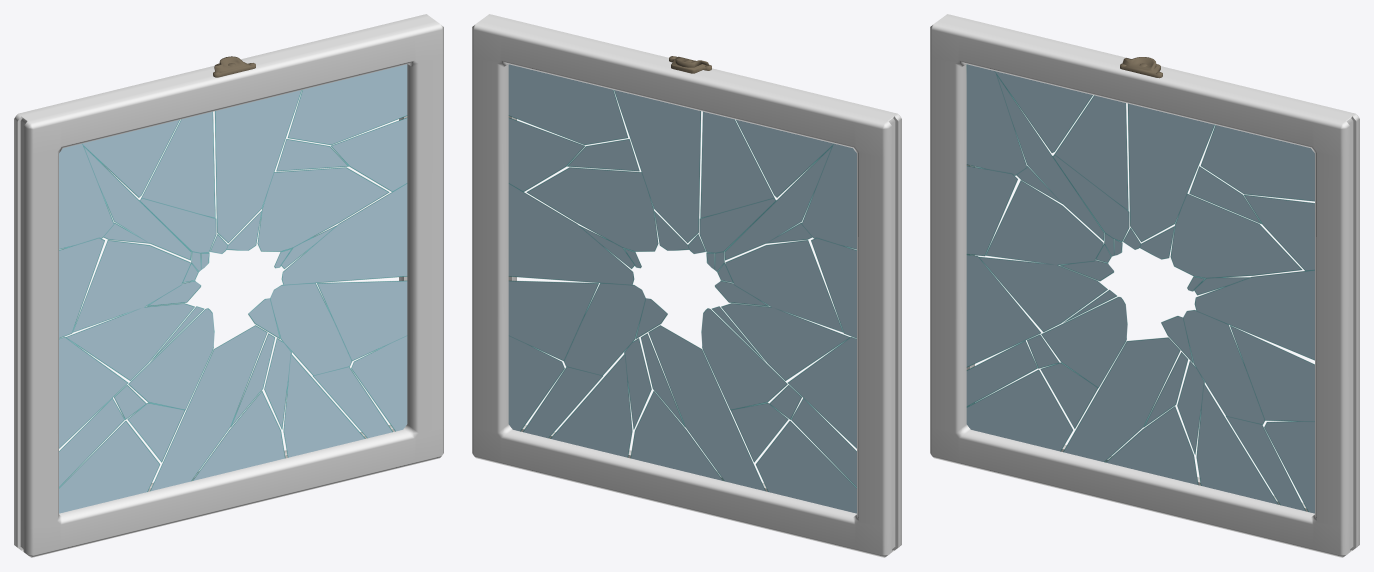
The model's file is GlassBrokenWindow.glb.
3 renders of one model, left to right at view 1: azimuth 30°, elevation 25°; view 2: azimuth 150°, elevation 25°; view 3: azimuth 330°, elevation 25°, orthographic.
Parts seen in each view (by area): view 1: WindowsGlass, WindowFrame, WindowClasp; view 2: WindowsGlass, WindowFrame; view 3: WindowsGlass, WindowFrame, WindowClasp.
Part boxes in pixels (x1,y1,x2,y2): WindowsGlass: (59, 64, 407, 513); WindowFrame: (14, 14, 443, 557); WindowClasp: (213, 56, 255, 77); WindowsGlass: (508, 64, 856, 513); WindowFrame: (472, 14, 901, 557); WindowsGlass: (966, 64, 1314, 513); WindowFrame: (930, 14, 1359, 557); WindowClasp: (1120, 57, 1162, 78).
Bounding box in the file's own units: 0.508 × 0.5165 × 0.0381.
3 materials, 1 textured.
